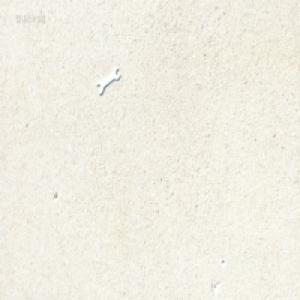Wrench: (96, 68, 119, 96)
